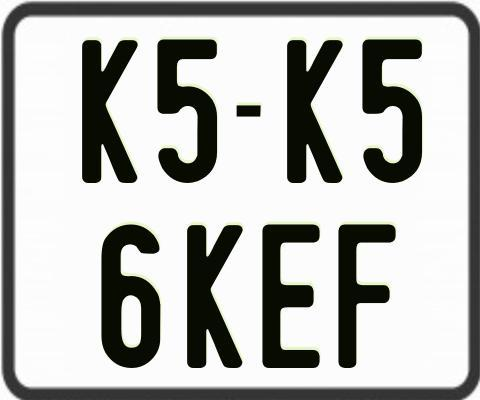5: (362, 37, 424, 182), (157, 37, 219, 181)
6: (99, 221, 163, 367)
E: (260, 222, 321, 367)
F: (336, 221, 400, 366)
K: (287, 37, 346, 184), (80, 39, 138, 187), (187, 222, 244, 371)
